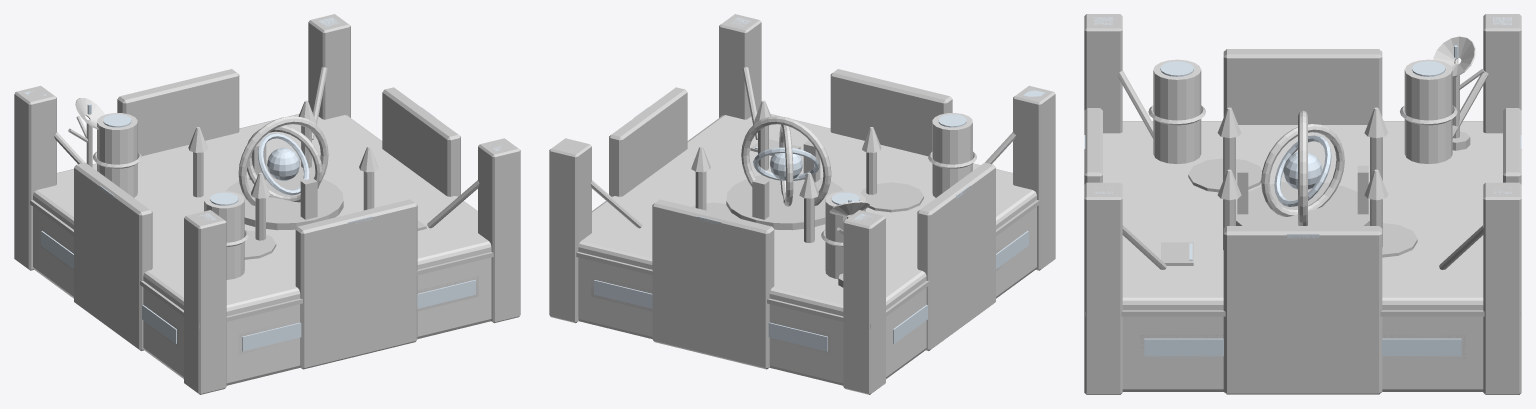
The model's file is SM_StationModule_GravMaterialsLab_01.fbx.
The picture shows the model from 3 angles, left to right: view 1: azimuth 30°, elevation 25°; view 2: azimuth 150°, elevation 25°; view 3: azimuth 270°, elevation 25°; orthographic projection. The views are drawn at different scales.
Parts seen in each view (by area): view 1: SM_StationModule_GravMaterialsLab_01; view 2: SM_StationModule_GravMaterialsLab_01; view 3: SM_StationModule_GravMaterialsLab_01.
Boxes of the visible parts, bbox=[...] form: SM_StationModule_GravMaterialsLab_01: bbox=[14, 14, 520, 394]; SM_StationModule_GravMaterialsLab_01: bbox=[549, 14, 1055, 394]; SM_StationModule_GravMaterialsLab_01: bbox=[1084, 14, 1521, 394].
Size of what is drawn, in the model's own units: 800 by 800 by 400.
